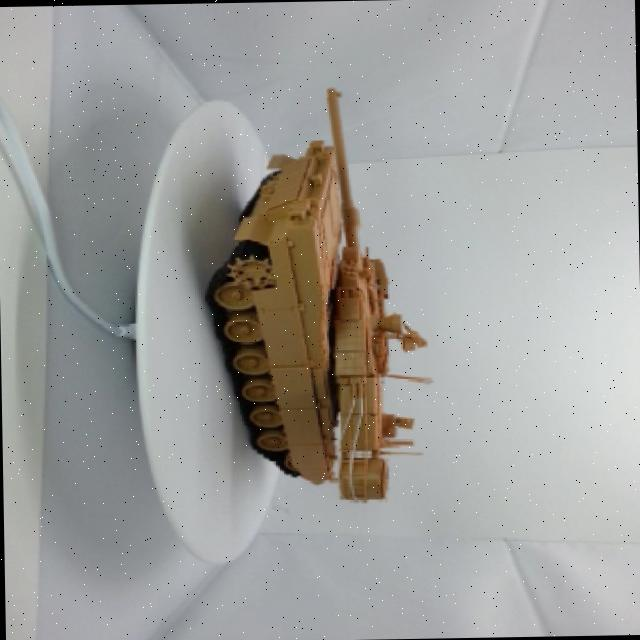korea tank: (196, 68, 456, 510)
